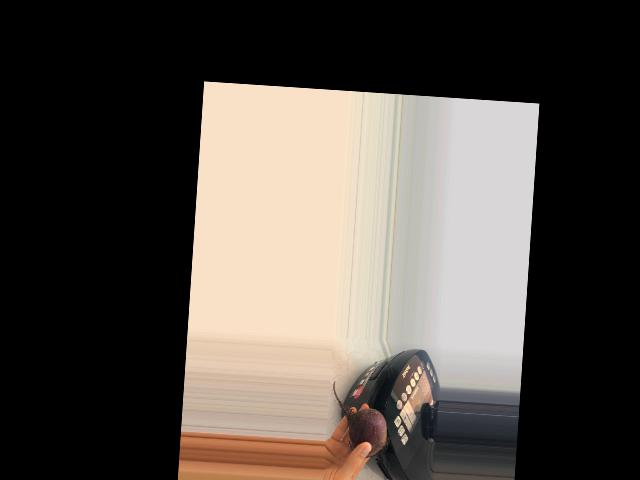beet: (328, 381, 392, 458)
